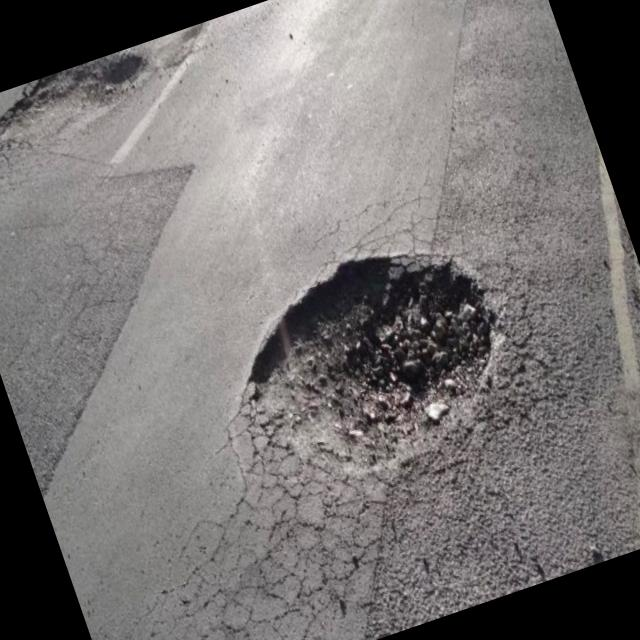Potholes: (206, 194, 548, 520), (0, 36, 191, 194)
